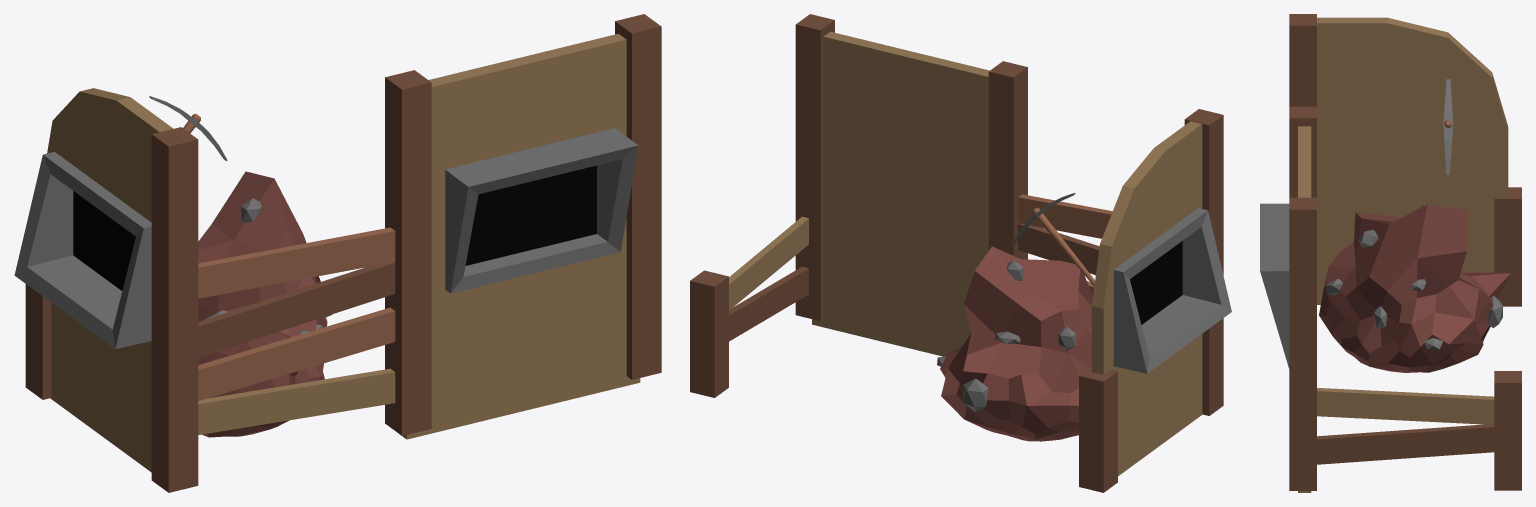
Rendered from Iron_Miner_Seperated.fbx.
The picture shows the model from 3 angles, left to right: view 1: azimuth 30°, elevation 25°; view 2: azimuth 150°, elevation 25°; view 3: azimuth 270°, elevation 25°; orthographic projection. The views are drawn at different scales.
Visible parts, largest first — view 1: Cube.172; view 2: Cube.172, Cube.173; view 3: Cube.172, Cube.173.
Boxes of the visible parts, <box> form: Cube.172: <box>14,14,661,492</box>; Cube.172: <box>690,14,1231,492</box>; Cube.173: <box>1010,193,1094,286</box>; Cube.172: <box>1260,14,1521,492</box>; Cube.173: <box>1443,79,1453,174</box>.
Bounding box in the file's own units: 317 × 211 × 168.
